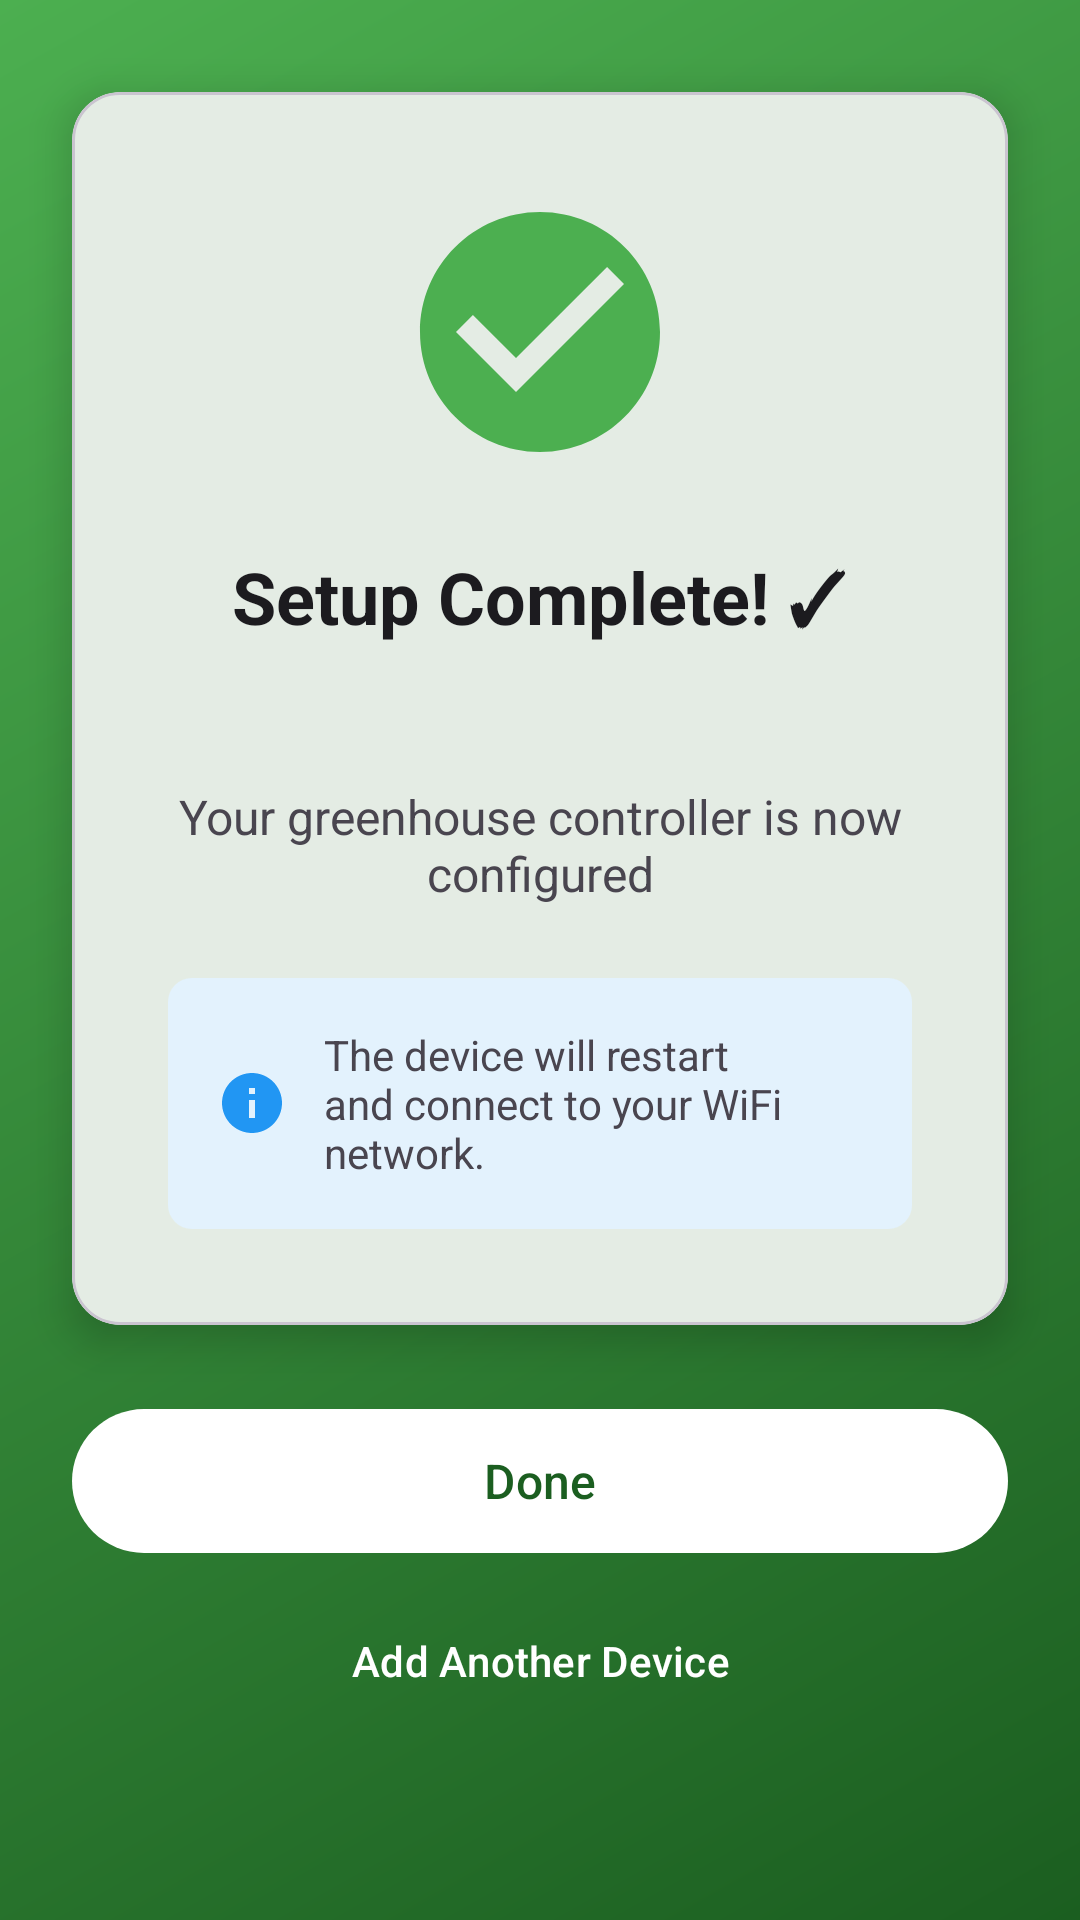

Where to tap for icons on this 1080×1920 app screen, as [x,y]:
info: [252,1103]
success: [540,332]
